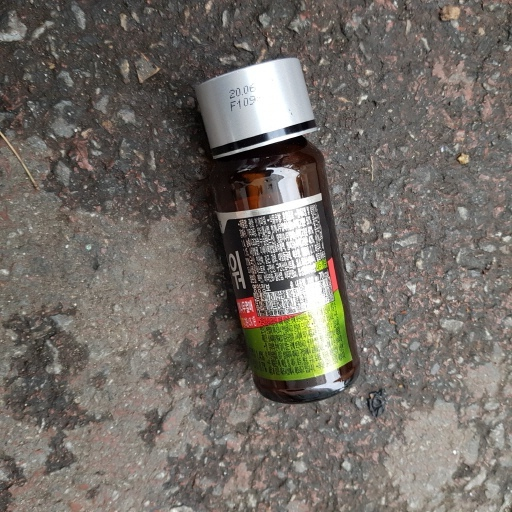Glass_3: (184, 52, 359, 403)
